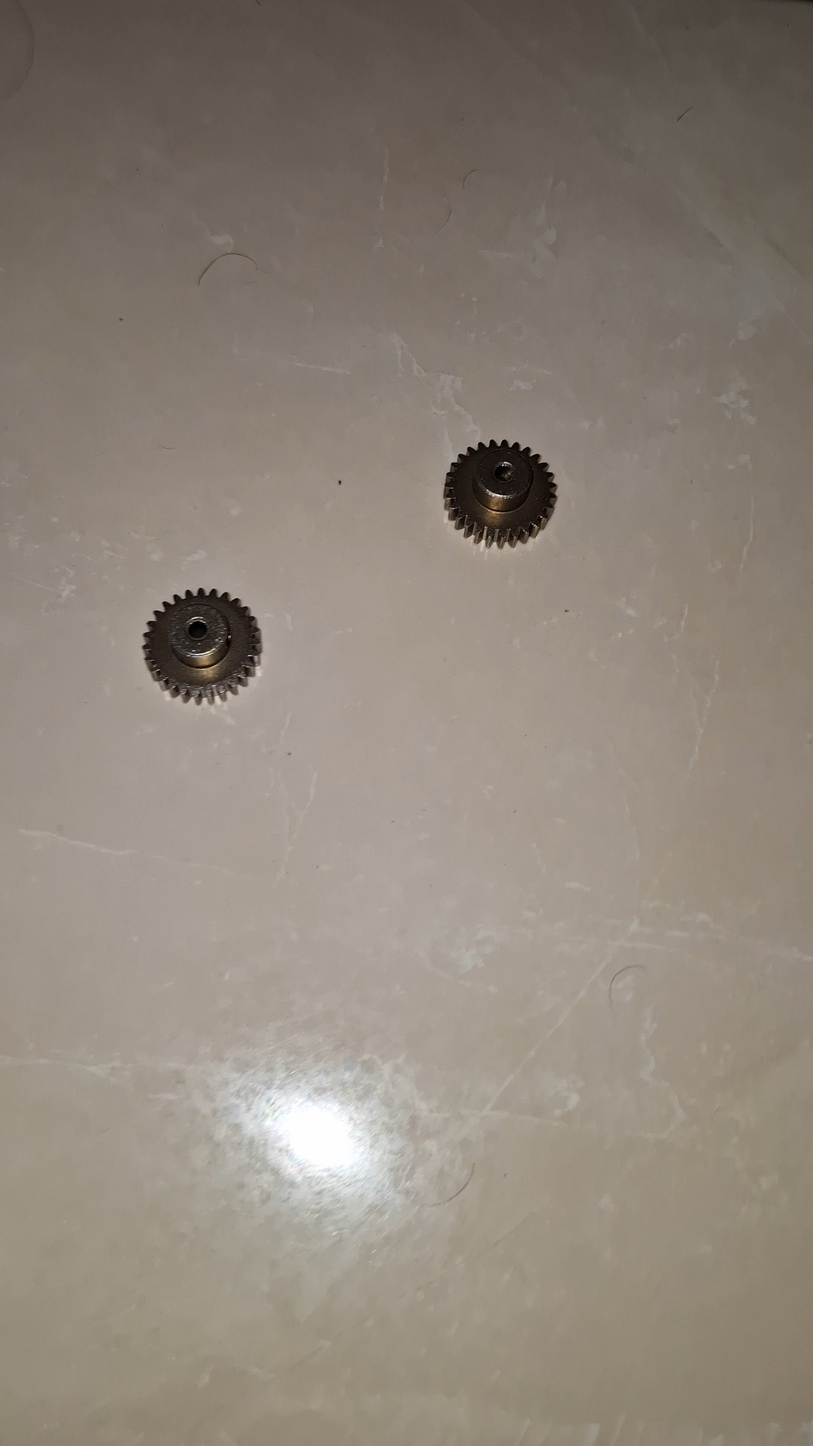spur gear: (144, 589, 260, 702), (444, 441, 556, 547)
